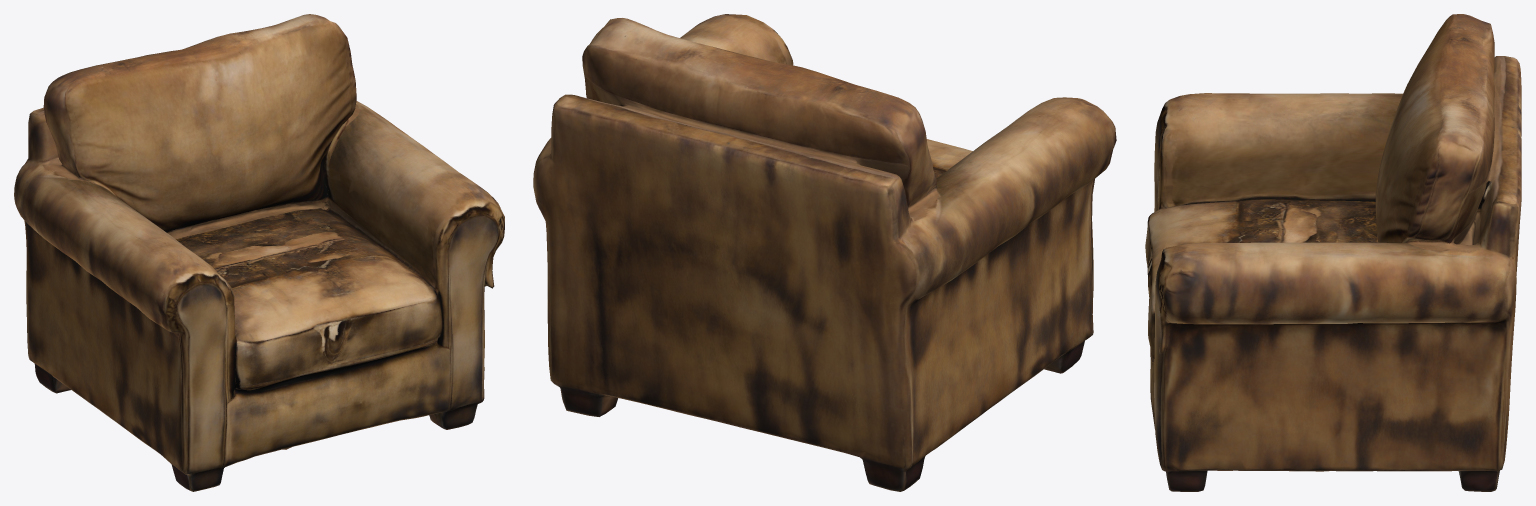
The model's file is Meshy_AI_Worn_Comfort_0131234633_texture.glb.
The picture shows the model from 3 angles, left to right: view 1: azimuth 30°, elevation 25°; view 2: azimuth 150°, elevation 25°; view 3: azimuth 270°, elevation 25°; orthographic projection. The views are drawn at different scales.
Bounding box in the file's own units: 2.01 × 1.75 × 1.73.
Materials: 1 (1 with a texture image).
